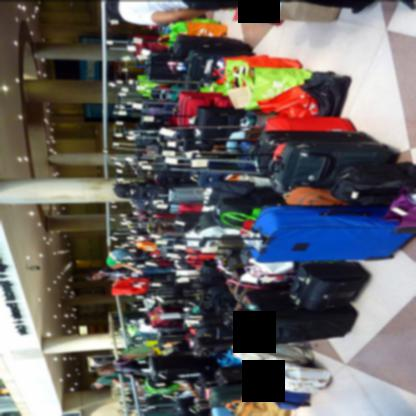backpack: (331, 160, 416, 205), (299, 70, 351, 116), (238, 342, 317, 367), (284, 186, 351, 205), (115, 180, 166, 199)
handbag: (265, 362, 332, 393), (380, 180, 416, 226), (238, 257, 295, 283), (123, 344, 156, 360)
suitcase: (164, 180, 364, 409), (244, 204, 416, 263), (269, 139, 391, 187), (253, 130, 371, 178), (258, 260, 369, 309), (159, 116, 356, 142), (247, 299, 358, 344), (173, 41, 252, 74), (185, 49, 255, 77), (177, 94, 234, 125), (193, 106, 249, 127), (209, 407, 239, 416), (184, 74, 202, 89)
